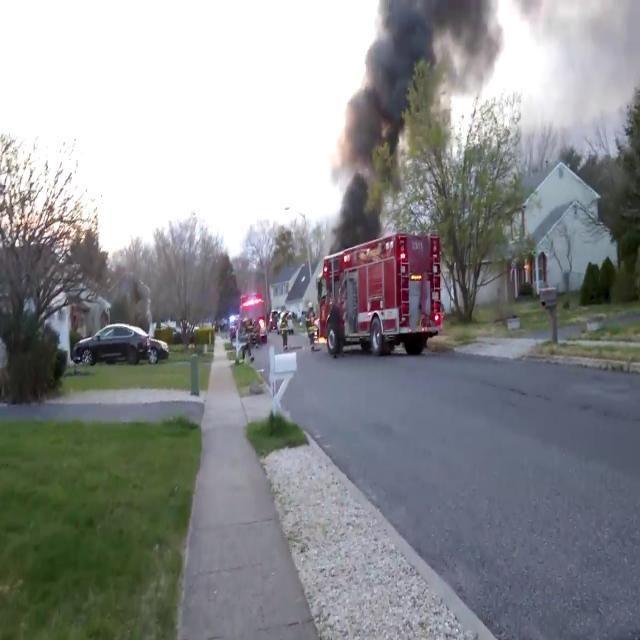Smoke: (328, 0, 506, 239)
